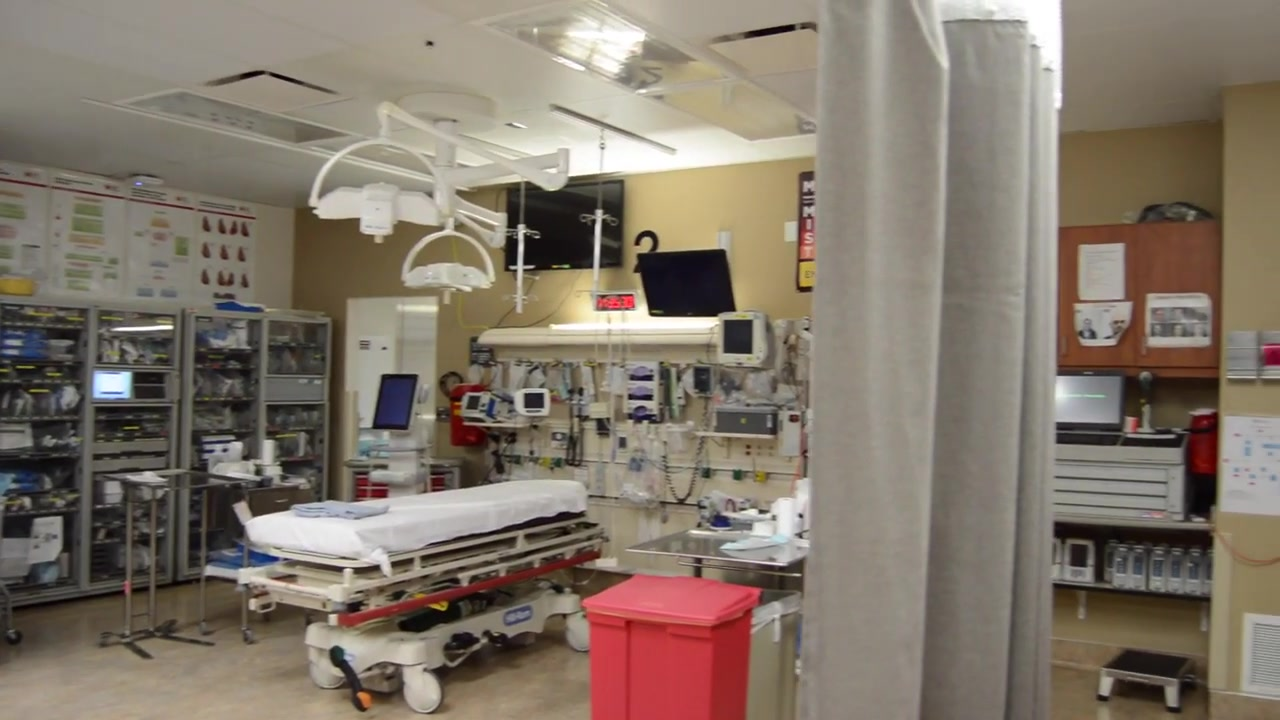TV: (505, 178, 624, 272)
bedside_monitor: (636, 248, 736, 317), (716, 312, 773, 368), (372, 373, 419, 430)
cabinet: (1, 292, 332, 609), (1061, 223, 1219, 377)
computer: (1055, 370, 1126, 432)
curtain: (793, 1, 1060, 720)
handle: (1060, 335, 1069, 358), (1141, 336, 1148, 357)
iv_pole: (579, 211, 617, 303), (509, 223, 540, 316)
operating_bed: (245, 479, 584, 698)
surgical_light: (319, 183, 447, 244), (405, 263, 491, 303)
utility_cart: (101, 465, 247, 659), (197, 475, 311, 645)
waste_bin: (581, 573, 761, 720), (739, 585, 803, 720)
